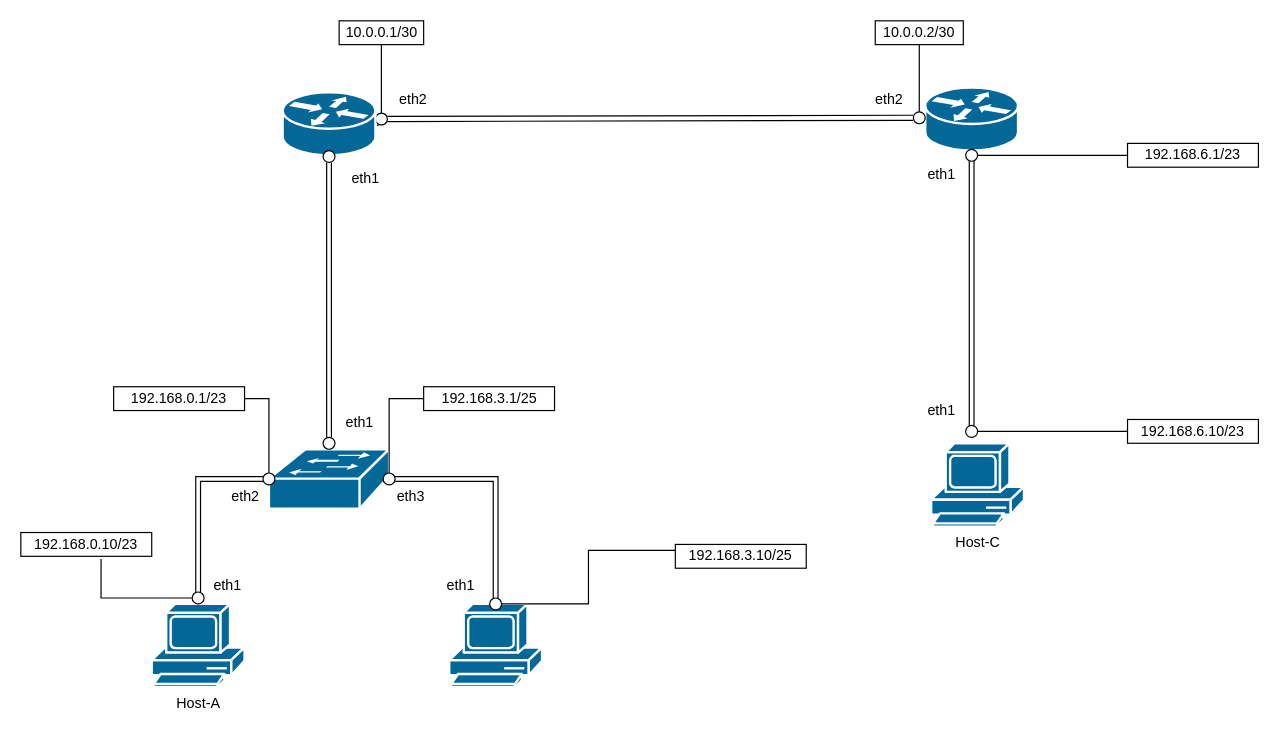
Image size: 1279x733. Some labels were removed from this diagram. Here are the shapes that lost their labels. From the top down, the centre of each, then its label:
At (x=328, y=123): "Router-1".
At (x=971, y=118): "Router-2".
At (x=495, y=645): "Host-B".
